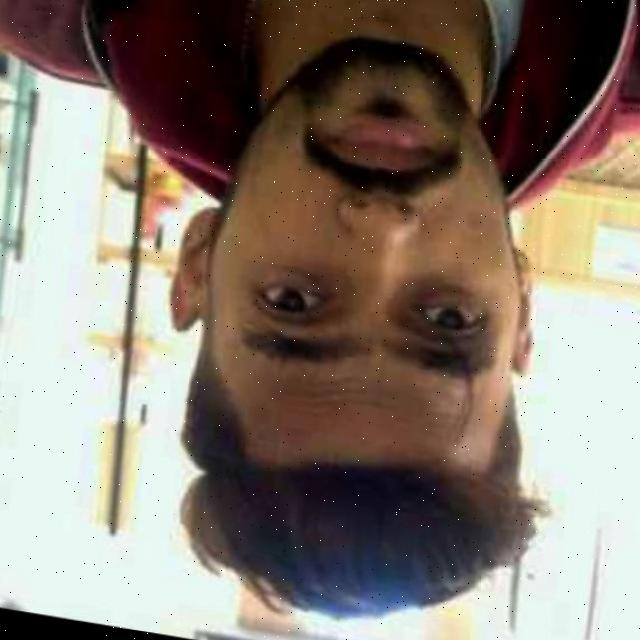puffy_eyes: (263, 261, 334, 291)
